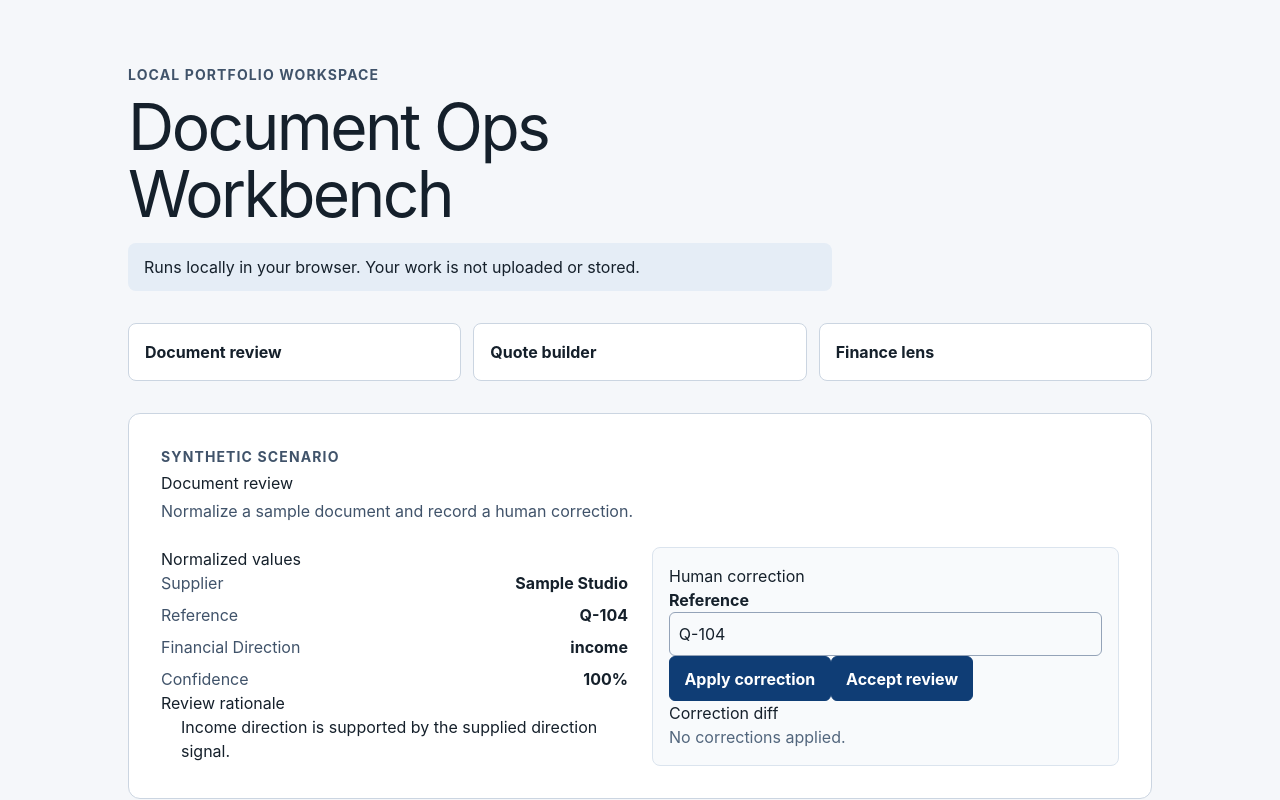
Test case: operations workbench interactions › records local acceptance when a reviewer accepts the document result
The width and height of the screenshot is (1280, 800).
Click the button "Accept review": (902, 679) [831,656,973,701]
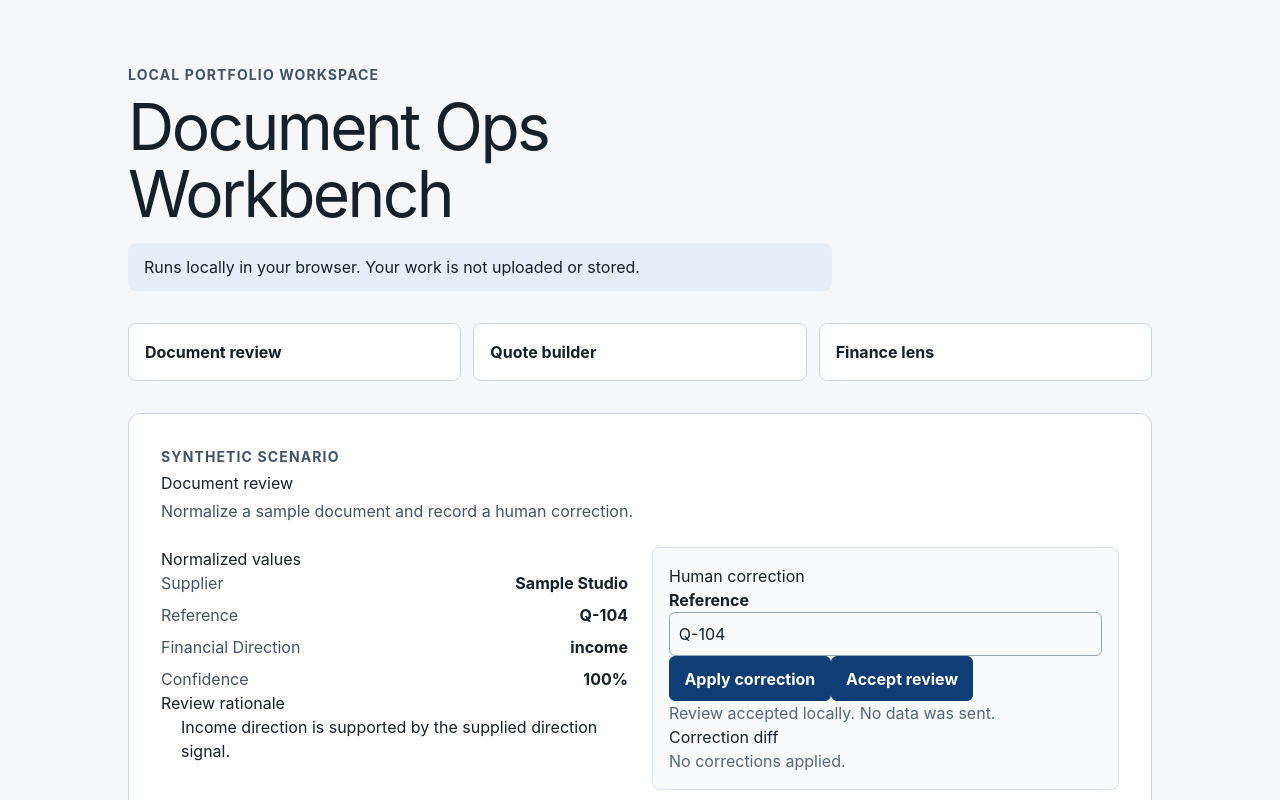
Check: the message reads "Review accepted locally. No data was sent.", box [669,703,996,723]
